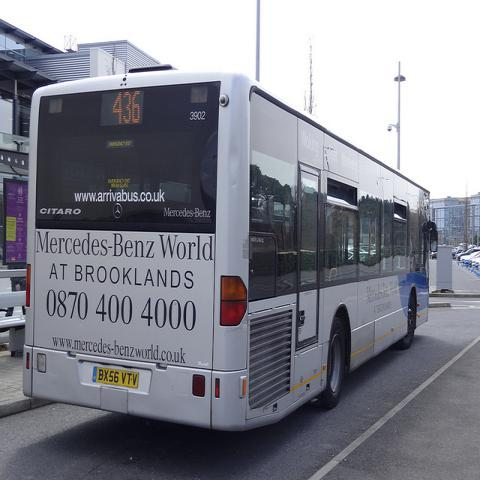bus: (24, 72, 441, 430)
car: (460, 250, 480, 266), (469, 256, 479, 269), (452, 248, 459, 259), (474, 257, 479, 272)
